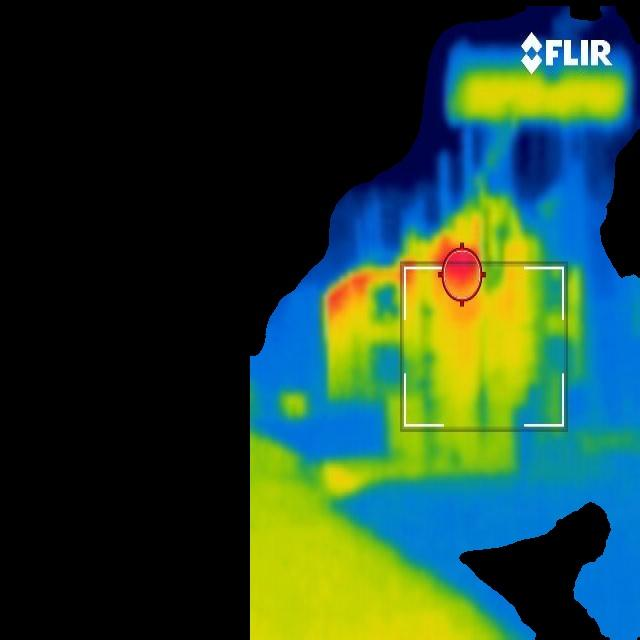Transformer Overload: (322, 216, 558, 402)
